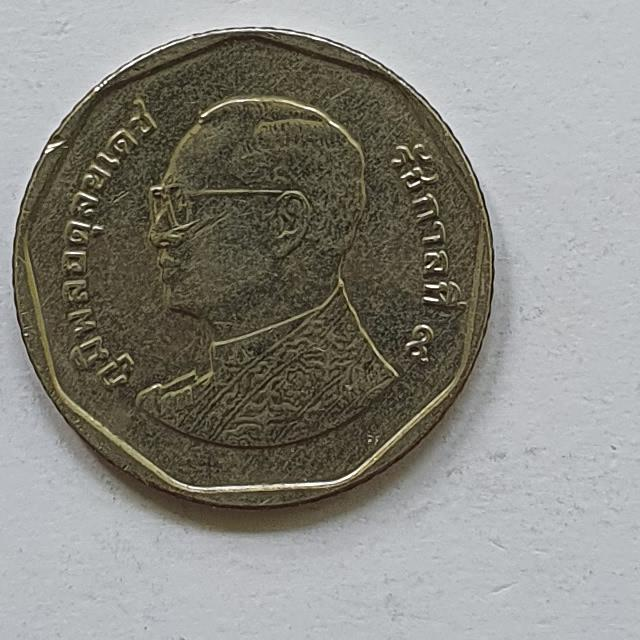5 Bath: (16, 27, 502, 520)
